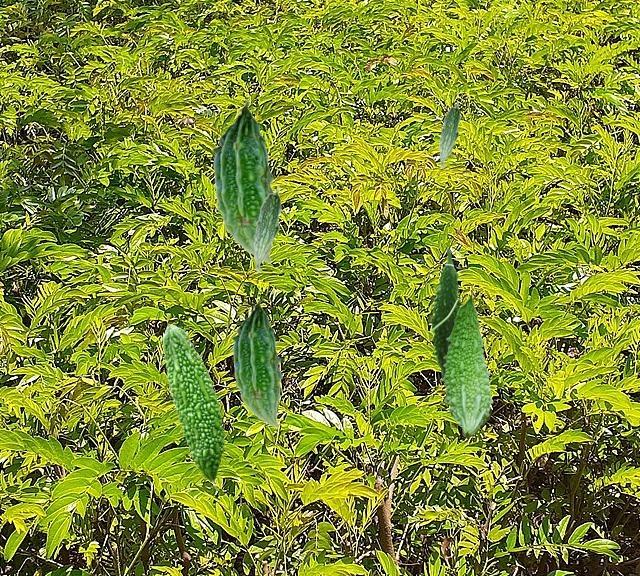ampalaya: (162, 323, 226, 488), (211, 100, 274, 264), (440, 291, 494, 438), (231, 298, 283, 428), (428, 246, 468, 378), (253, 185, 281, 273), (438, 100, 460, 169)
